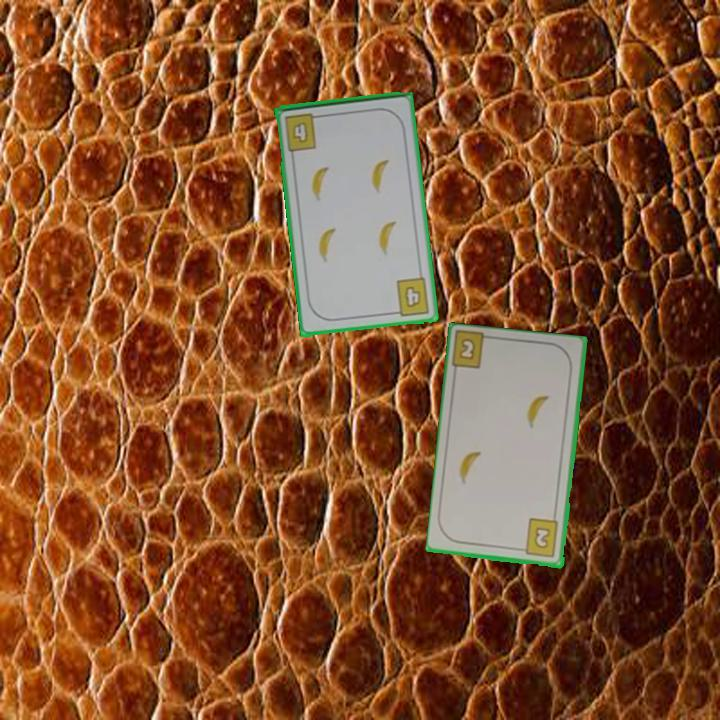2b: (516, 516, 561, 560), (456, 335, 478, 363)
4b: (389, 274, 433, 319), (281, 109, 324, 154)
